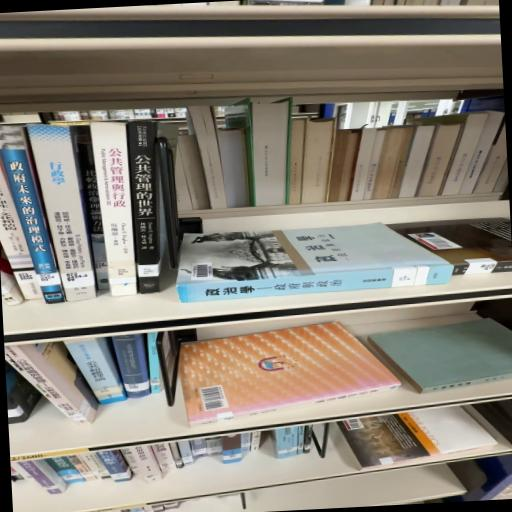flat: (180, 319, 512, 427), (178, 223, 452, 302), (338, 406, 494, 469)
